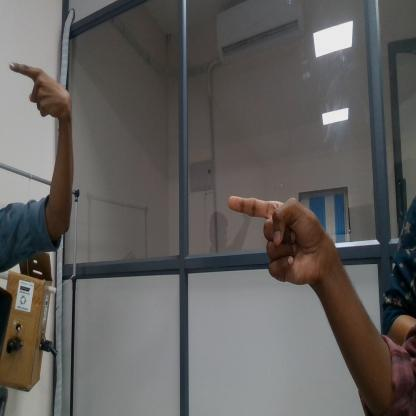Right: (226, 187, 330, 292), (8, 54, 76, 128)
